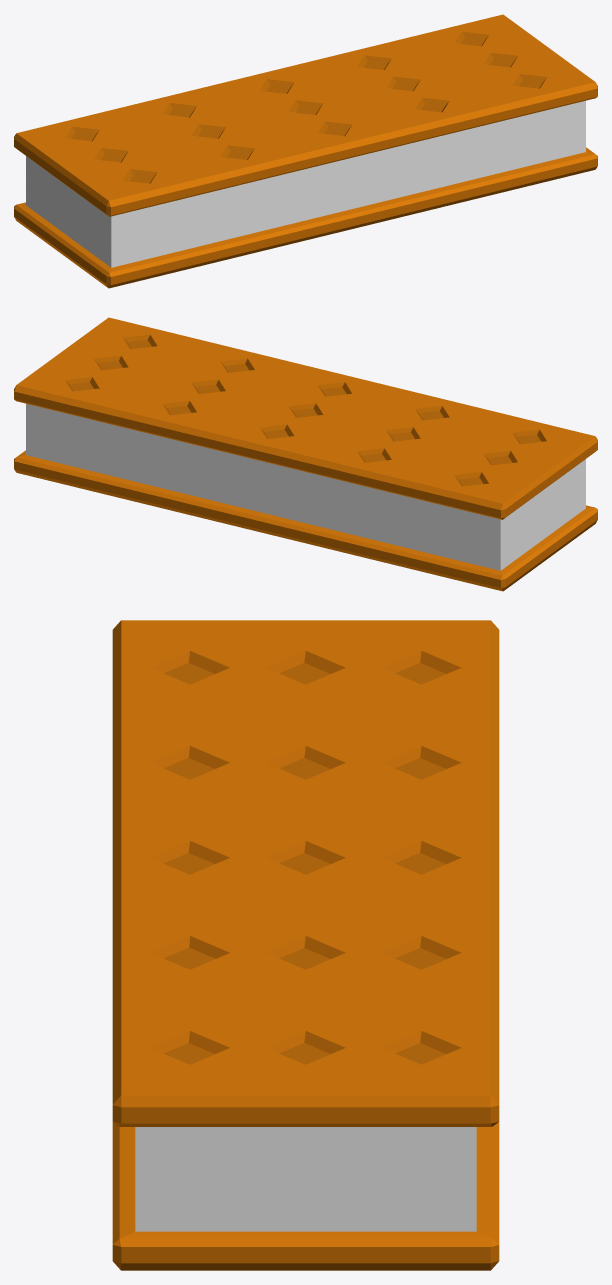
Rendered from Sangui de Nata.fbx.
3 views of the same model, one above another, from view 1: azimuth 30°, elevation 25°; view 2: azimuth 150°, elevation 25°; view 3: azimuth 270°, elevation 25° (orthographic). The views are drawn at different scales.
Visible parts, largest first — view 1: Suelo; view 2: Suelo; view 3: Suelo.
Boxes of the visible parts, x1,y1,x2,y2 form: Suelo: (14, 14, 597, 288); Suelo: (14, 317, 597, 591); Suelo: (112, 620, 499, 1270).
Bounding box in the file's own units: 849 × 145 × 289.
